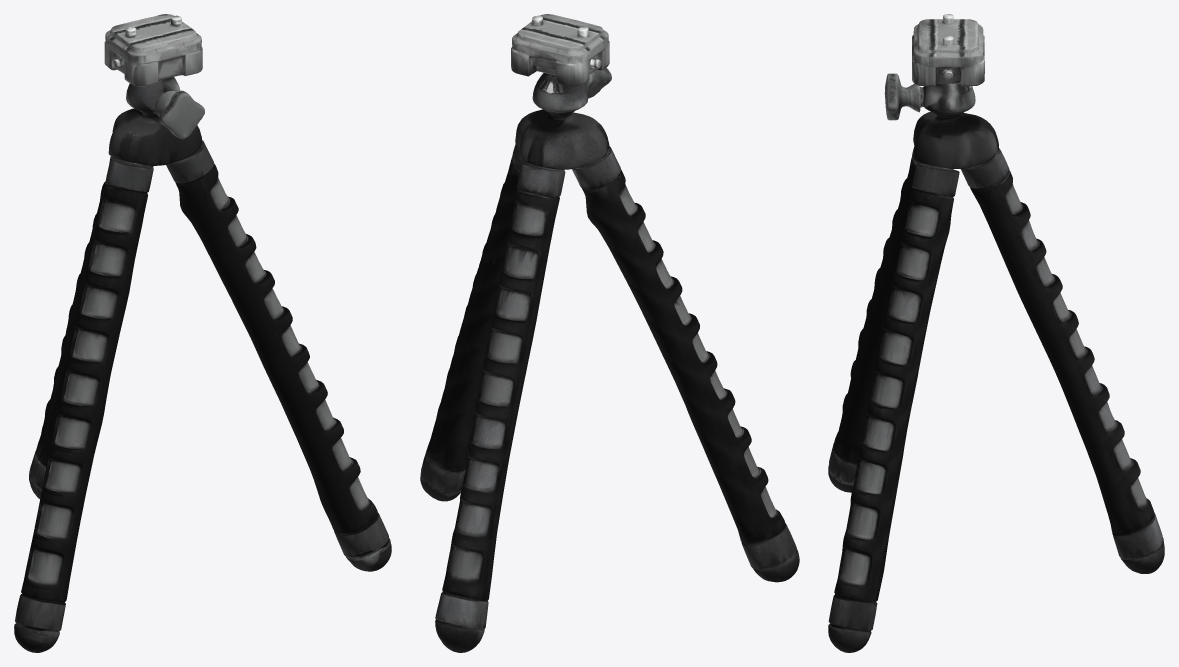
The model's file is tripod.glb.
The picture shows the model from 3 angles, left to right: view 1: azimuth 30°, elevation 25°; view 2: azimuth 150°, elevation 25°; view 3: azimuth 270°, elevation 25°; orthographic projection.
Size of the model in its own units: 1.34 by 1.9 by 1.06.
1 material, 1 textured.
